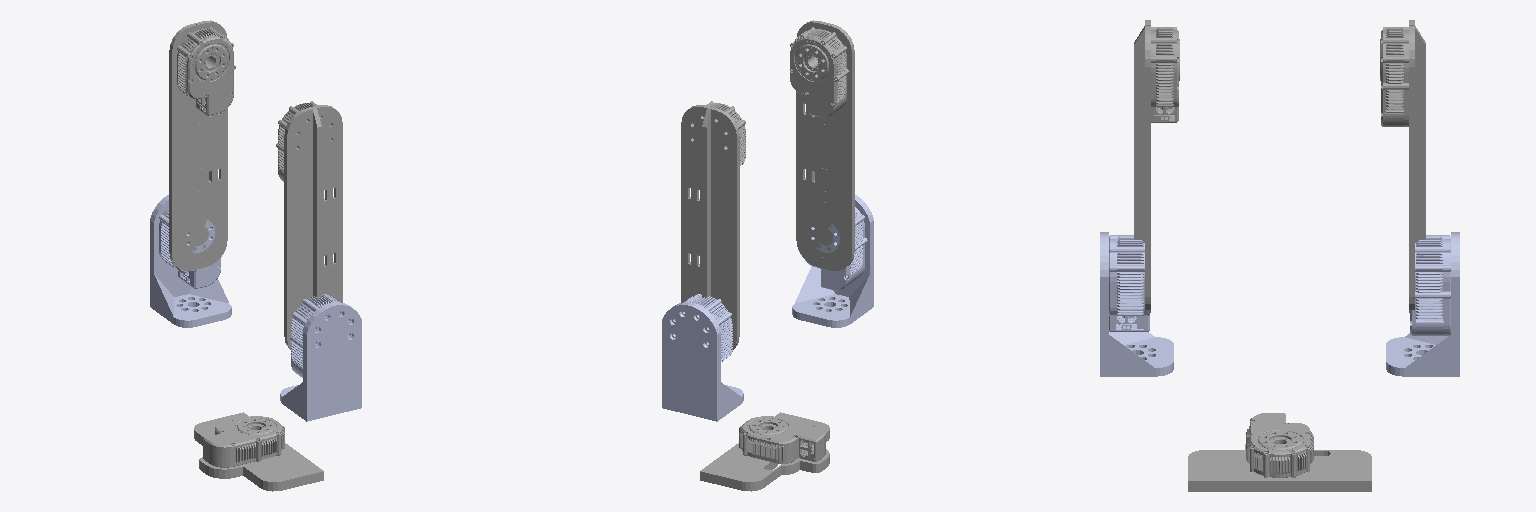
URDF robot description (pianoman):
<?xml version="1.0" encoding="utf-8"?>
<!-- This URDF was automatically created by SolidWorks to URDF Exporter! Originally created by [author] ([email redacted]) 
     Commit Version: 1.6.0-1-g15f4949  Build Version: 1.6.7594.29634
     For more information, please see http://wiki.ros.org/sw_urdf_exporter -->
<robot
  name="pianoman">
  <!-- Create a dummy link -->
  <link name="dummy_link"/>
  <joint name="dummy_joint" type="fixed">
    <parent link="dummy_link"/>
    <child link="base_link"/>
  </joint>
  <link
    name="base_link">
    <inertial>
      <origin
        xyz="0.0300061235118624 0.0359903663648887 0.0175486455313757"
        rpy="0 0 0" />
      <mass
        value="0.304239093789025" />
      <inertia
        ixx="0.000516350291713157"
        ixy="-1.70846675565787E-05"
        ixz="5.14044040712592E-08"
        iyy="0.000205370464784606"
        iyz="7.37057571153816E-08"
        izz="0.000710548710791563" />
    </inertial>
    <visual>
      <origin
        xyz="0 0 0"
        rpy="0 0 0" />
      <geometry>
        <mesh
          filename="package://pianoman_description/meshes/base_link.STL" />
      </geometry>
      <material
        name="">
        <color
          rgba="0.698039215686274 0.698039215686274 0.698039215686274 1" />
      </material>
    </visual>
    <collision>
      <origin
        xyz="0 0 0"
        rpy="0 0 0" />
      <geometry>
        <mesh
          filename="package://pianoman_description/meshes/base_link.STL" />
      </geometry>
    </collision>
  </link>
  <link
    name="palm_link">
    <inertial>
      <origin
        xyz="-5.72137985251179E-05 -1.24111370523003E-12 0.0444728662974232"
        rpy="0 0 0" />
      <mass
        value="0.971138103562556" />
      <inertia
        ixx="0.00387122030448526"
        ixy="1.83000716643826E-05"
        ixz="1.22481858075798E-15"
        iyy="0.000445673118784228"
        iyz="-7.99810781386117E-16"
        izz="0.00423305624403146" />
    </inertial>
    <visual>
      <origin
        xyz="0 0 0"
        rpy="0 0 0" />
      <geometry>
        <mesh
          filename="package://pianoman_description/meshes/palm_link.STL" />
      </geometry>
      <material
        name="">
        <color
          rgba="0.698039215686274 0.698039215686274 0.698039215686274 1" />
      </material>
    </visual>
    <collision>
      <origin
        xyz="0 0 0"
        rpy="0 0 0" />
      <geometry>
        <mesh
          filename="package://pianoman_description/meshes/palm_link.STL" />
      </geometry>
    </collision>
  </link>
  <joint
    name="global_pan_joint"
    type="continuous">
    <origin
      xyz="0.04 0.038 0.04375"
      rpy="0 0 0" />
    <parent
      link="base_link" />
    <child
      link="palm_link" />
    <axis
      xyz="0 0 1" />
  </joint>
  <link
    name="R_pan_link">
    <inertial>
      <origin
        xyz="0.0142755458704184 -0.000915820753126177 0.0741330552426406"
        rpy="0 0 0" />
      <mass
        value="0.411841014619115" />
      <inertia
        ixx="0.000650297037313643"
        ixy="-8.01776717080046E-08"
        ixz="-8.99147209831474E-05"
        iyy="0.000555448644534389"
        iyz="-6.68647343982056E-06"
        izz="0.000271554876260846" />
    </inertial>
    <visual>
      <origin
        xyz="0 0 0"
        rpy="0 0 0" />
      <geometry>
        <mesh
          filename="package://pianoman_description/meshes/R_pan_link.STL" />
      </geometry>
      <material
        name="">
        <color
          rgba="0.792156862745098 0.819607843137255 0.933333333333333 1" />
      </material>
    </visual>
    <collision>
      <origin
        xyz="0 0 0"
        rpy="0 0 0" />
      <geometry>
        <mesh
          filename="package://pianoman_description/meshes/R_pan_link.STL" />
      </geometry>
    </collision>
  </link>
  <joint
    name="R_pan_joint"
    type="continuous">
    <origin
      xyz="0 0.155 0.09375"
      rpy="0 0 1.5708" />
    <parent
      link="palm_link" />
    <child
      link="R_pan_link" />
    <axis
      xyz="0 0 1" />
  </joint>
  <link
    name="R_lower_link">
    <inertial>
      <origin
        xyz="0.184383798824422 0.000878100656252749 -0.00632078776204578"
        rpy="0 0 0" />
      <mass
        value="0.289456956408964" />
      <inertia
        ixx="0.000116039318017133"
        ixy="4.58303088457045E-06"
        ixz="-5.14044060530752E-08"
        iyy="0.00122823071669264"
        iyz="7.37057426641069E-08"
        izz="0.00133536408539488" />
    </inertial>
    <visual>
      <origin
        xyz="0 0 0"
        rpy="0 0 0" />
      <geometry>
        <mesh
          filename="package://pianoman_description/meshes/R_lower_link.STL" />
      </geometry>
      <material
        name="">
        <color
          rgba="0.698039215686274 0.698039215686274 0.698039215686274 1" />
      </material>
    </visual>
    <collision>
      <origin
        xyz="0 0 0"
        rpy="0 0 0" />
      <geometry>
        <mesh
          filename="package://pianoman_description/meshes/R_lower_link.STL" />
      </geometry>
    </collision>
  </link>
  <joint
    name="R_lower_joint"
    type="continuous">
    <origin
      xyz="-0.01505 0 0.11"
      rpy="3.1416 -1.5708 0" />
    <parent
      link="R_pan_link" />
    <child
      link="R_lower_link" />
    <axis
      xyz="0 0 1" />
  </joint>
  <link
    name="R_upper_link">
    <inertial>
      <origin
        xyz="0.232720336790854 -0.00655827605655907 0.00277558152349347"
        rpy="0 0 0" />
      <mass
        value="0.361549054701378" />
      <inertia
        ixx="0.000183935481993837"
        ixy="4.93986523316313E-08"
        ixz="-6.29732100236879E-07"
        iyy="0.000591365455989536"
        iyz="-4.5539527396278E-06"
        izz="0.000647825294418246" />
    </inertial>
    <visual>
      <origin
        xyz="0 0 0"
        rpy="0 0 0" />
      <geometry>
        <mesh
          filename="package://pianoman_description/meshes/R_upper_link.STL" />
      </geometry>
      <material
        name="">
        <color
          rgba="0.752941176470588 0.752941176470588 0.752941176470588 1" />
      </material>
    </visual>
    <collision>
      <origin
        xyz="0 0 0"
        rpy="0 0 0" />
      <geometry>
        <mesh
          filename="package://pianoman_description/meshes/R_upper_link.STL" />
      </geometry>
    </collision>
  </link>
  <joint
    name="R_upper_joint"
    type="continuous">
    <origin
      xyz="0.25 0 -0.03105"
      rpy="-3.1416 4.1111E-05 0" />
    <parent
      link="R_lower_link" />
    <child
      link="R_upper_link" />
    <axis
      xyz="-4.1111E-05 0 -1" />
  </joint>
  <link
    name="L_pan_link">
    <inertial>
      <origin
        xyz="0.0142755458704183 -0.000915820753125454 0.07413305524264"
        rpy="0 0 0" />
      <mass
        value="0.411841014619115" />
      <inertia
        ixx="0.000650297037313641"
        ixy="-8.01776717080075E-08"
        ixz="-8.99147209831474E-05"
        iyy="0.000555448644534387"
        iyz="-6.68647343981909E-06"
        izz="0.000271554876260845" />
    </inertial>
    <visual>
      <origin
        xyz="0 0 0"
        rpy="0 0 0" />
      <geometry>
        <mesh
          filename="package://pianoman_description/meshes/L_pan_link.STL" />
      </geometry>
      <material
        name="">
        <color
          rgba="0.792156862745098 0.819607843137255 0.933333333333333 1" />
      </material>
    </visual>
    <collision>
      <origin
        xyz="0 0 0"
        rpy="0 0 0" />
      <geometry>
        <mesh
          filename="package://pianoman_description/meshes/L_pan_link.STL" />
      </geometry>
    </collision>
  </link>
  <joint
    name="L_pan_joint"
    type="continuous">
    <origin
      xyz="0 -0.155 0.09375"
      rpy="0 0 -1.5708" />
    <parent
      link="palm_link" />
    <child
      link="L_pan_link" />
    <axis
      xyz="0 0 1" />
  </joint>
  <link
    name="L_lower_link">
    <inertial>
      <origin
        xyz="0.184383798819117 0.00107792483506533 -0.00632078776238132"
        rpy="0 0 0" />
      <mass
        value="0.289456956413614" />
      <inertia
        ixx="0.000116039318155093"
        ixy="4.56700415656016E-06"
        ixz="-5.14044040707716E-08"
        iyy="0.00122823071657011"
        iyz="7.37057571153318E-08"
        izz="0.00133536408541021" />
    </inertial>
    <visual>
      <origin
        xyz="0 0 0"
        rpy="0 0 0" />
      <geometry>
        <mesh
          filename="package://pianoman_description/meshes/L_lower_link.STL" />
      </geometry>
      <material
        name="">
        <color
          rgba="0.698039215686274 0.698039215686274 0.698039215686274 1" />
      </material>
    </visual>
    <collision>
      <origin
        xyz="0 0 0"
        rpy="0 0 0" />
      <geometry>
        <mesh
          filename="package://pianoman_description/meshes/L_lower_link.STL" />
      </geometry>
    </collision>
  </link>
  <joint
    name="L_lower_joint"
    type="continuous">
    <origin
      xyz="-0.01505 0 0.11"
      rpy="3.1416 -1.5708 0" />
    <parent
      link="L_pan_link" />
    <child
      link="L_lower_link" />
    <axis
      xyz="0 0 -1" />
  </joint>
  <link
    name="L_upper_link">
    <inertial>
      <origin
        xyz="0.232720223384442 -0.00668137185927126 0.00278514918198189"
        rpy="0 0 0" />
      <mass
        value="0.361549065607165" />
      <inertia
        ixx="0.000183935551655801"
        ixy="5.32145615380455E-08"
        ixz="-6.48802911842293E-07"
        iyy="0.000591365456371859"
        iyz="-4.55395565704938E-06"
        izz="0.000647825258809842" />
    </inertial>
    <visual>
      <origin
        xyz="0 0 0"
        rpy="0 0 0" />
      <geometry>
        <mesh
          filename="package://pianoman_description/meshes/L_upper_link.STL" />
      </geometry>
      <material
        name="">
        <color
          rgba="0.698039215686274 0.698039215686274 0.698039215686274 1" />
      </material>
    </visual>
    <collision>
      <origin
        xyz="0 0 0"
        rpy="0 0 0" />
      <geometry>
        <mesh
          filename="package://pianoman_description/meshes/L_upper_link.STL" />
      </geometry>
    </collision>
  </link>
  <joint
    name="L_upper_joint"
    type="continuous">
    <origin
      xyz="0.25 0 -0.03105"
      rpy="-3.1416 0 0" />
    <parent
      link="L_lower_link" />
    <child
      link="L_upper_link" />
    <axis
      xyz="0 0 1" />
  </joint>
</robot>

--- Render facts (derived) ---
Views: 3 orthographic renders of the robot side by side, from view 1: azimuth 30°, elevation 25°; view 2: azimuth 150°, elevation 25°; view 3: azimuth 270°, elevation 25°.
Model pianoman with 9 links and 8 joints (7 continuous, 1 fixed), rooted at dummy_link, posed all joints at 0.
Visible links, largest first — view 1: R_lower_link, L_lower_link, L_pan_link, base_link, R_pan_link; view 2: L_lower_link, R_lower_link, R_pan_link, base_link, L_pan_link; view 3: base_link, R_pan_link, L_pan_link, R_lower_link, L_lower_link.
Link boxes in pixels (x1,y1,x2,y2): R_lower_link: (169, 20, 235, 270); L_lower_link: (276, 101, 342, 349); L_pan_link: (280, 294, 361, 421); base_link: (194, 412, 323, 491); R_pan_link: (150, 195, 231, 327); L_lower_link: (790, 20, 854, 270); R_lower_link: (681, 101, 745, 349); R_pan_link: (662, 294, 743, 421); base_link: (700, 412, 829, 491); L_pan_link: (792, 195, 873, 327); base_link: (1188, 413, 1371, 491); R_pan_link: (1386, 232, 1459, 376); L_pan_link: (1100, 232, 1173, 376); R_lower_link: (1380, 20, 1425, 312); L_lower_link: (1134, 20, 1179, 312).
Bounding box of the posed robot: 0.1181 × 0.39 × 0.5375 m (x, y, z).
Meshes: 8 distinct files referenced, 5 mesh visuals loaded (5 binary STL); not drawn: 3 (reference not matched to a file when rendering).
